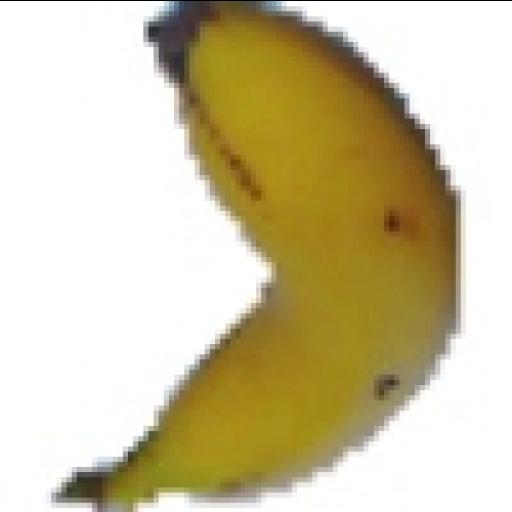banana: (62, 1, 455, 506)
